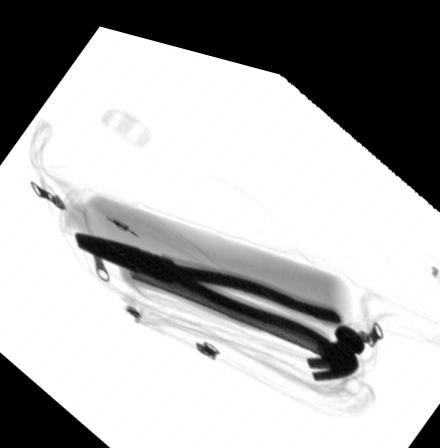Hammer: (116, 247, 364, 365)
Pliers: (75, 225, 342, 329)
